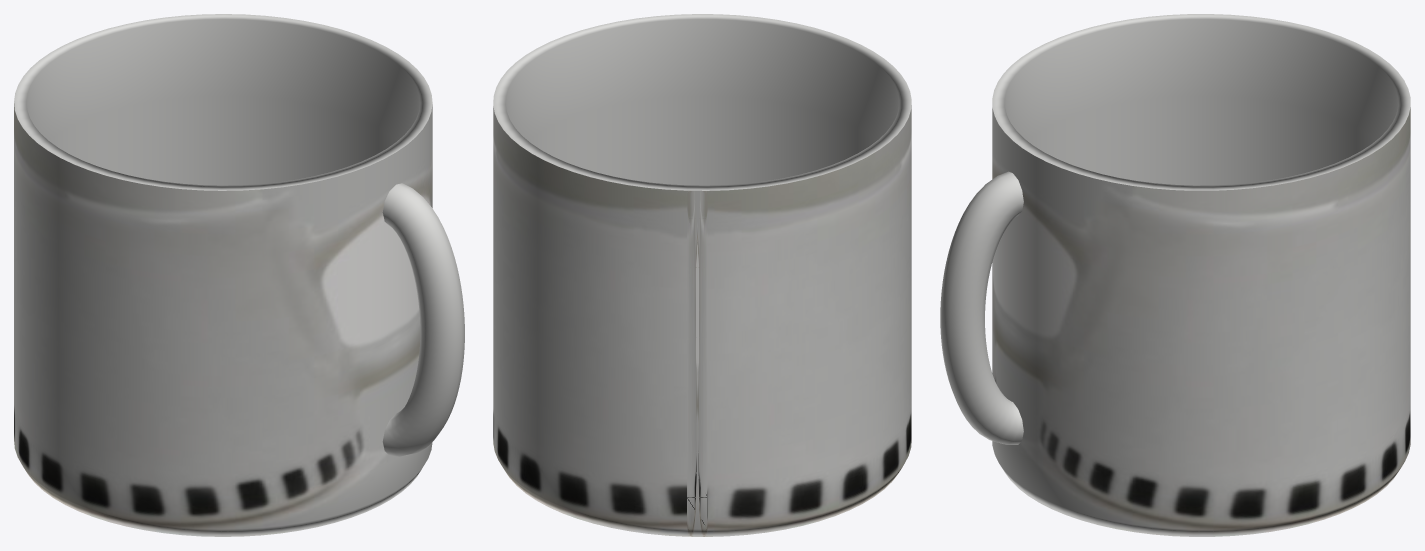
The model's file is CER-17.glb.
The picture shows the model from 3 angles, left to right: view 1: azimuth 30°, elevation 25°; view 2: azimuth 150°, elevation 25°; view 3: azimuth 270°, elevation 25°; orthographic projection.
Size of the model in its own units: 0.0649 by 0.0597 by 0.073.
3 materials, 1 textured.
